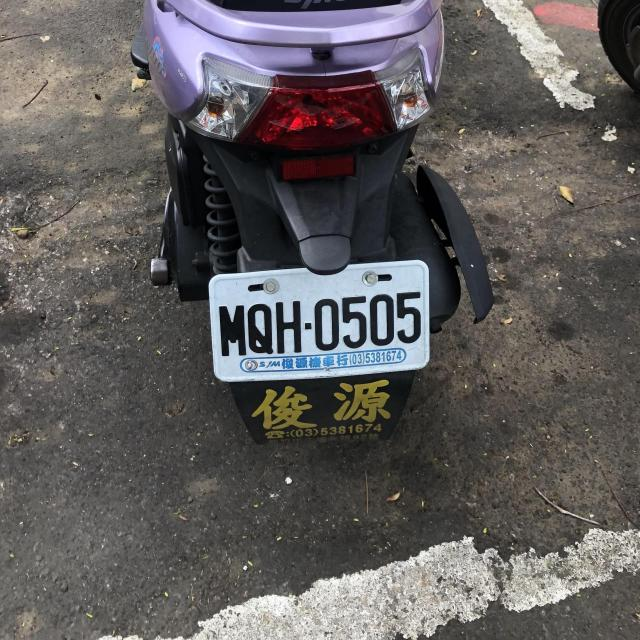W: (207, 260, 434, 385)
